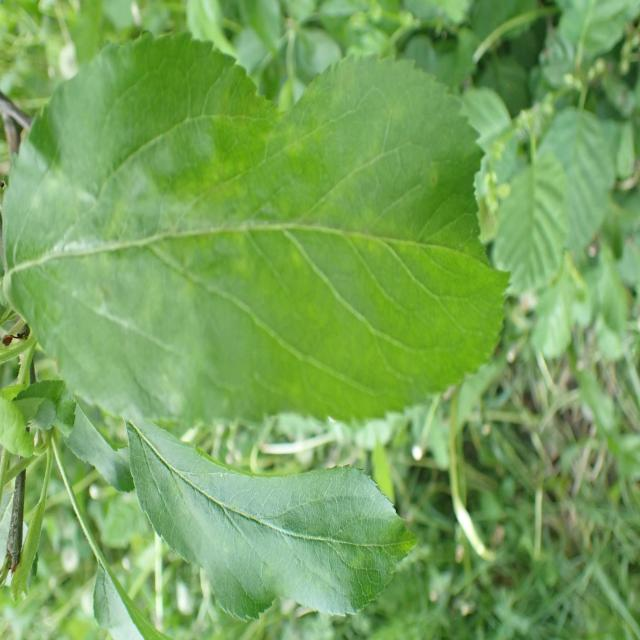scab: (50, 108, 457, 369)
